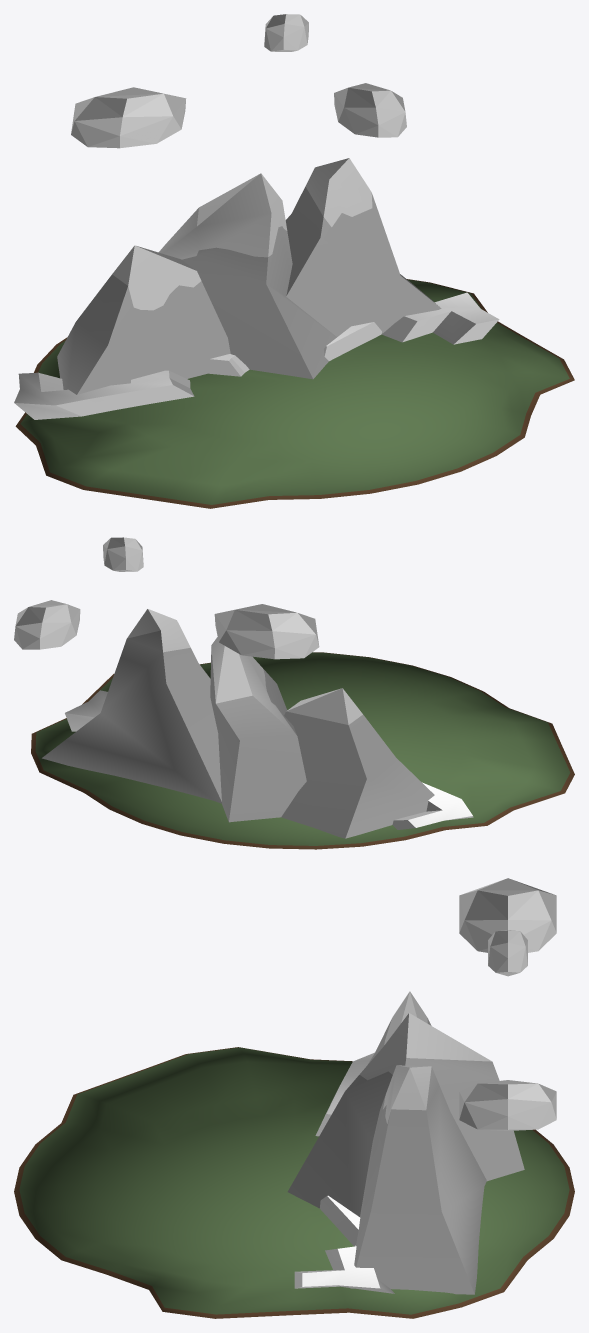
File: Mountain_1235.gltf
The picture shows the model from 3 angles, top to bottom: view 1: azimuth 30°, elevation 25°; view 2: azimuth 150°, elevation 25°; view 3: azimuth 270°, elevation 25°; orthographic projection. The views are drawn at different scales.
Parts seen in each view (by area): view 1: node-0; view 2: node-0; view 3: node-0.
Part boxes in pixels (box(x1,y1,x2,y2)): node-0: box(14, 14, 574, 508); node-0: box(14, 537, 574, 849); node-0: box(14, 878, 574, 1318).
Size of the model in its own units: 206 by 110 by 179.
